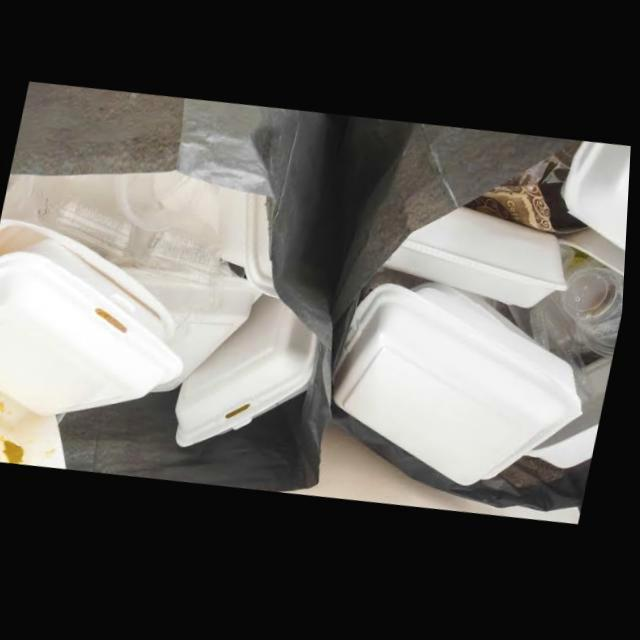plastic_container: (39, 193, 138, 265), (534, 303, 599, 411), (565, 274, 627, 368), (137, 230, 227, 290)
